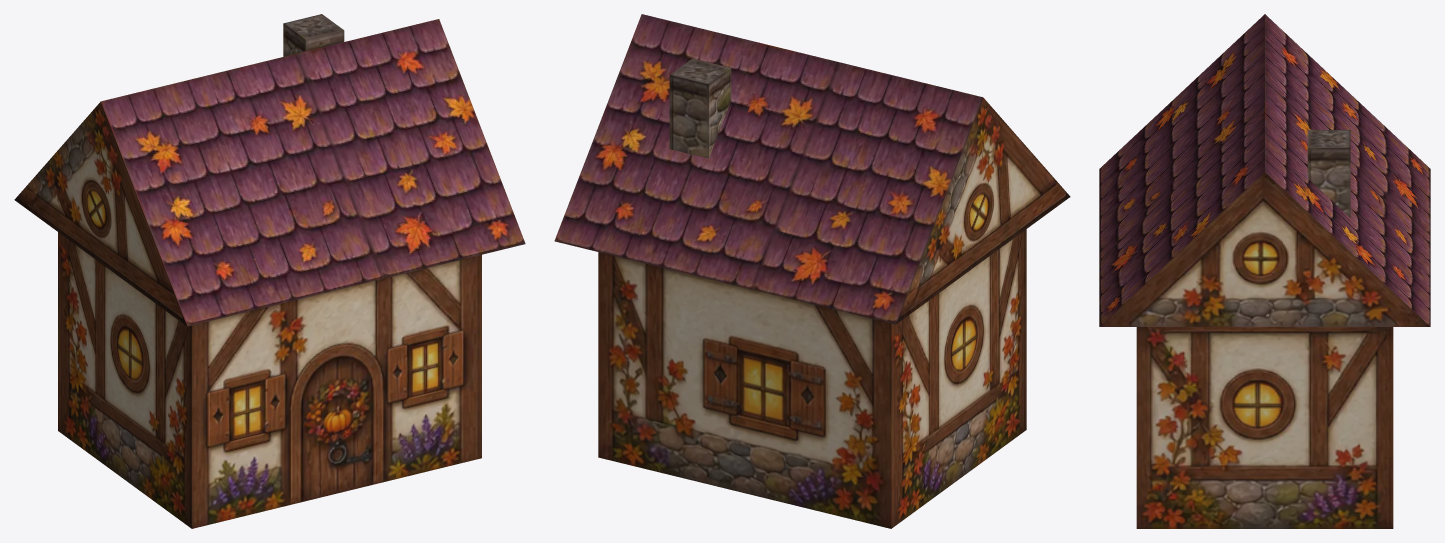
File: cottage.glb
3 renders of one model, left to right at view 1: azimuth 30°, elevation 25°; view 2: azimuth 150°, elevation 25°; view 3: azimuth 270°, elevation 25°, orthographic. The views are drawn at different scales.
Parts seen in each view (by area): view 1: GEO-cottage; view 2: GEO-cottage; view 3: GEO-cottage.
Boxes of the visible parts, left/top/right/bottom form: GEO-cottage: left=14, top=14, right=525, bottom=528; GEO-cottage: left=554, top=14, right=1070, bottom=528; GEO-cottage: left=1099, top=14, right=1430, bottom=528.
Size of the model in its own units: 3.5 by 3.8 by 3.1.
1 material, 1 textured.
